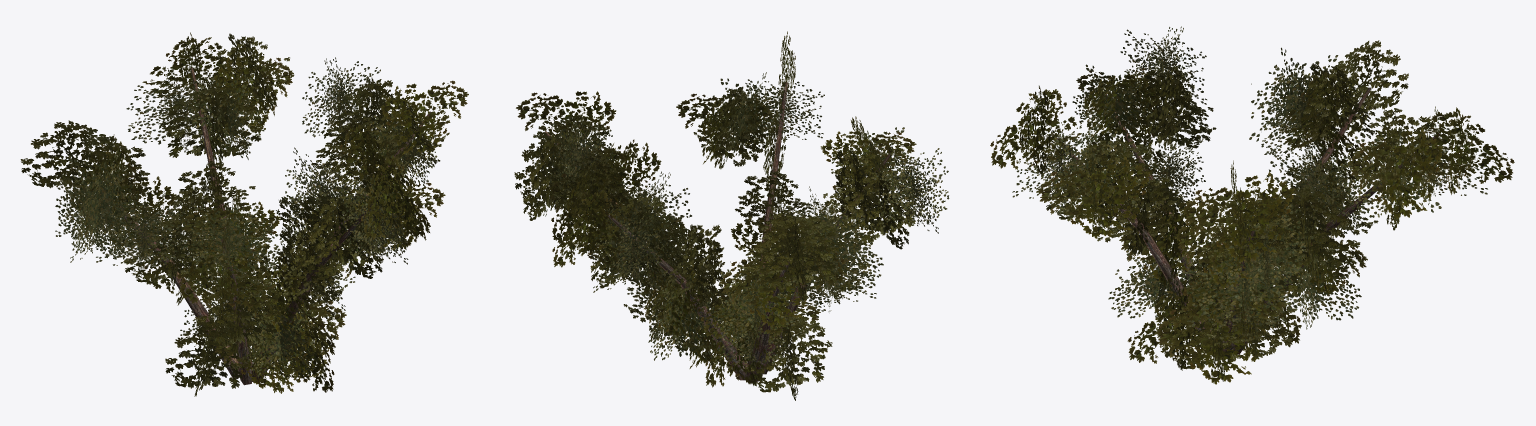
File: bush_3d_01_lod1.glb
3 renders of one model, left to right at view 1: azimuth 30°, elevation 25°; view 2: azimuth 150°, elevation 25°; view 3: azimuth 270°, elevation 25°, orthographic. The views are drawn at different scales.
Parts seen in each view (by area): view 1: foliage_cards, wood_geometry; view 2: foliage_cards, wood_geometry; view 3: foliage_cards, wood_geometry.
Part boxes in pixels (x1,y1,x2,y2): foliage_cards: (20,32,468,396); wood_geometry: (81,67,431,385); foliage_cards: (514,31,949,400); wood_geometry: (544,82,891,381); foliage_cards: (990,26,1514,384); wood_geometry: (1051,87,1440,354).
Bounding box in the file's own units: 2 × 1.29 × 2.12.
2 materials, 2 textured.
